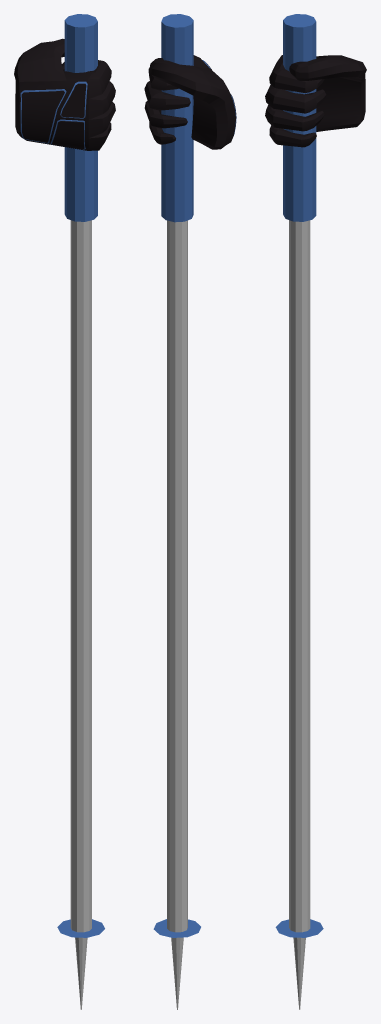
File: Za_Hando2 (1).fbx
3 views of the same model, side by side, from view 1: azimuth 90°, elevation 25°; view 2: azimuth 210°, elevation 25°; view 3: azimuth 270°, elevation 25° (orthographic).
Visible parts, largest first — view 1: Stick.003, Cube.002, Stick.002, Edges.001, Spike.001; view 2: Stick.003, Cube.002, Stick.002, Spike.001; view 3: Stick.003, Cube.002, Stick.002, Spike.001.
Boxes of the visible parts, <box> form: Stick.003: <box>70,220,91,932</box>; Cube.002: <box>14,38,115,150</box>; Stick.002: <box>57,14,104,937</box>; Edges.001: <box>20,81,87,149</box>; Spike.001: <box>75,937,87,1009</box>; Stick.003: <box>167,220,187,932</box>; Cube.002: <box>144,55,236,149</box>; Stick.002: <box>153,14,200,937</box>; Spike.001: <box>171,937,183,1009</box>; Stick.003: <box>289,220,310,932</box>; Cube.002: <box>265,55,366,147</box>; Stick.002: <box>275,14,323,937</box>; Spike.001: <box>293,937,305,1009</box>.
Size of the model in its own units: 490 by 6819 by 637.
